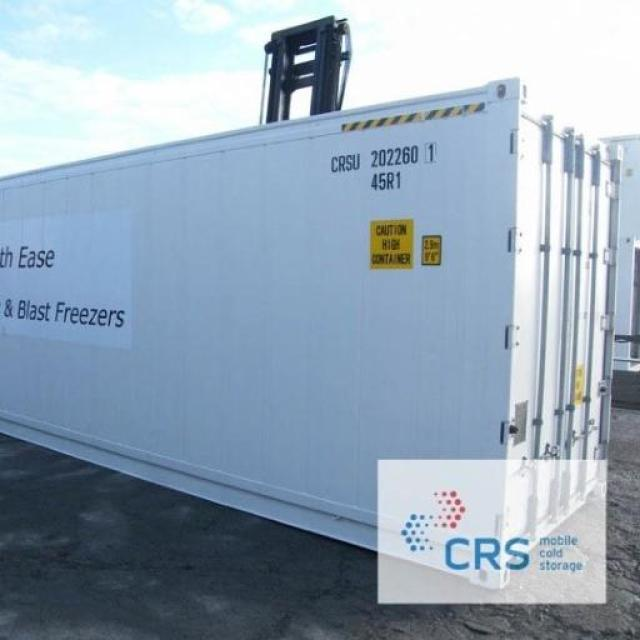ISO: (371, 170, 401, 190)
container_number: (329, 148, 437, 170)
